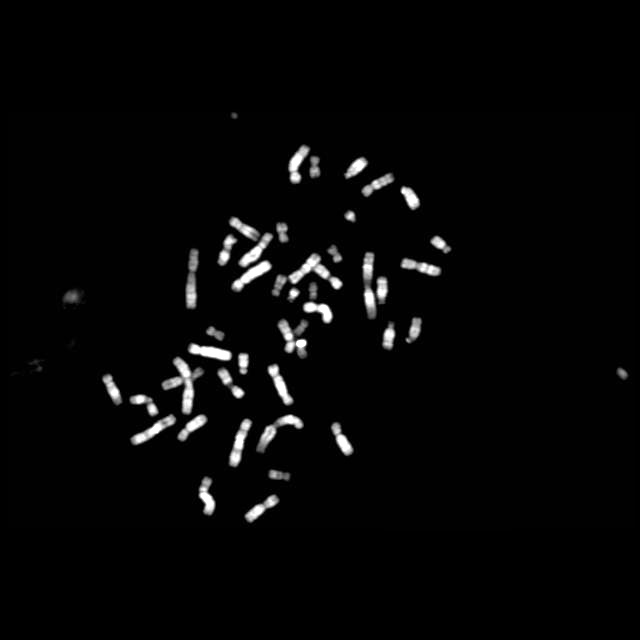chromosome: (257, 414, 303, 454), (130, 413, 176, 447), (231, 260, 271, 292), (239, 232, 273, 268), (172, 357, 193, 415), (362, 252, 378, 320), (230, 418, 252, 466), (288, 252, 320, 284), (162, 367, 204, 391), (268, 364, 292, 406), (245, 495, 280, 523), (310, 260, 342, 290), (185, 249, 200, 309), (288, 144, 310, 183), (216, 369, 244, 399), (361, 172, 393, 198), (178, 414, 207, 442), (228, 217, 260, 241), (332, 421, 354, 455), (401, 258, 441, 276), (198, 476, 216, 516), (188, 344, 232, 360), (304, 302, 332, 324), (218, 234, 237, 266), (130, 396, 158, 416), (104, 373, 121, 405), (343, 156, 367, 178), (278, 321, 294, 354), (405, 316, 423, 344), (401, 186, 419, 210), (431, 236, 452, 254), (272, 274, 286, 298), (377, 276, 389, 304), (383, 321, 395, 349), (292, 319, 308, 337), (62, 289, 80, 305), (276, 222, 290, 242), (308, 156, 320, 178), (237, 352, 248, 374), (297, 340, 309, 360), (270, 469, 290, 481), (328, 245, 342, 262), (206, 326, 224, 339), (287, 287, 298, 303), (308, 282, 317, 300), (344, 212, 356, 222)
